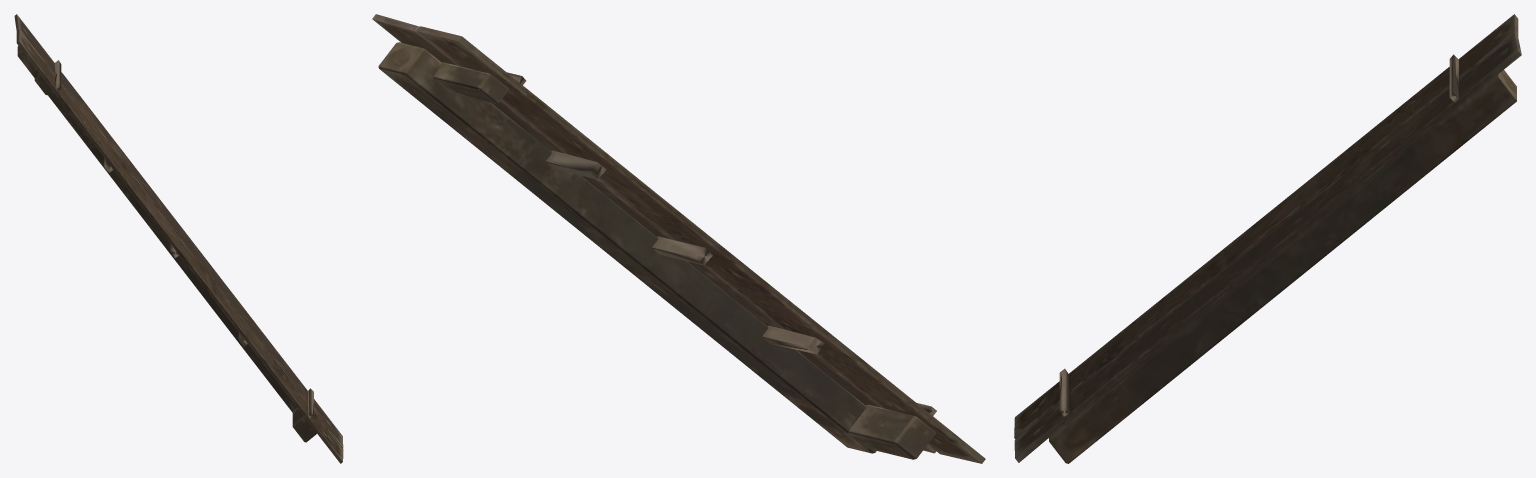
The model's file is roof.triangle.frontier.up.left.line.glb.
3 views of the same model, side by side, from view 1: azimuth 90°, elevation 25°; view 2: azimuth 150°, elevation 25°; view 3: azimuth 270°, elevation 25° (orthographic). The views are drawn at different scales.
Parts seen in each view (by area): view 1: model; view 2: model; view 3: model.
Boxes of the visible parts, x1,y1,x2,y2 form: model: (14,14,343,463); model: (372,14,985,463); model: (1014,14,1521,463).
Size of the model in its own units: 2.22 by 3.39 by 2.92.
1 material, 1 textured.
